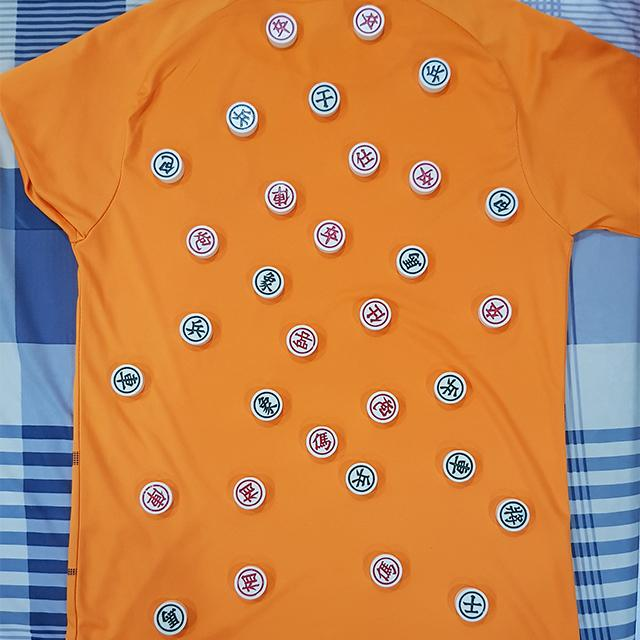black-advisor: (445, 574, 497, 630), (307, 79, 345, 120)
black-cannon: (146, 140, 188, 189), (486, 180, 526, 223)
black-chariot: (97, 359, 149, 403), (439, 438, 485, 487)
black-elephant: (237, 382, 293, 432), (248, 251, 294, 304)
black-general: (494, 492, 536, 536)
black-horse: (148, 590, 195, 640), (386, 234, 433, 282)
black-soldier: (168, 304, 230, 353), (424, 362, 480, 408), (404, 54, 459, 92), (218, 100, 264, 144), (344, 462, 394, 500)
red-advisor: (348, 290, 401, 338), (343, 131, 386, 186)
red-cannon: (179, 214, 228, 262), (363, 383, 407, 428)
red-chariot: (132, 473, 185, 520), (260, 174, 302, 216)
red-elephant: (218, 560, 276, 606), (230, 462, 274, 517)
red-general: (278, 321, 325, 365)
red-horse: (358, 544, 411, 596), (300, 415, 338, 459)
red-soldier: (468, 287, 527, 336), (258, 6, 306, 53), (402, 154, 448, 200), (308, 211, 351, 260), (344, 5, 394, 46)
